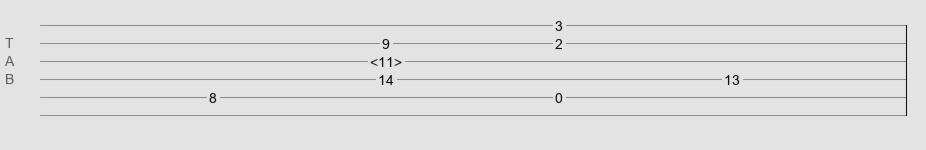0: (555, 90, 563, 100)
13: (724, 72, 740, 82)
14: (378, 72, 394, 82)
2: (555, 36, 563, 46)
3: (555, 18, 563, 28)
8: (209, 90, 217, 100)
9: (382, 36, 390, 46)
harmonic: (370, 54, 402, 64)
